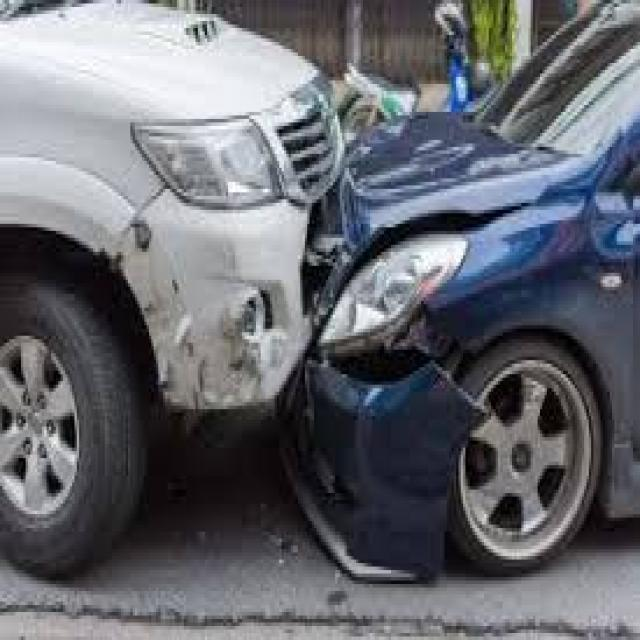accident: (0, 0, 632, 563)
